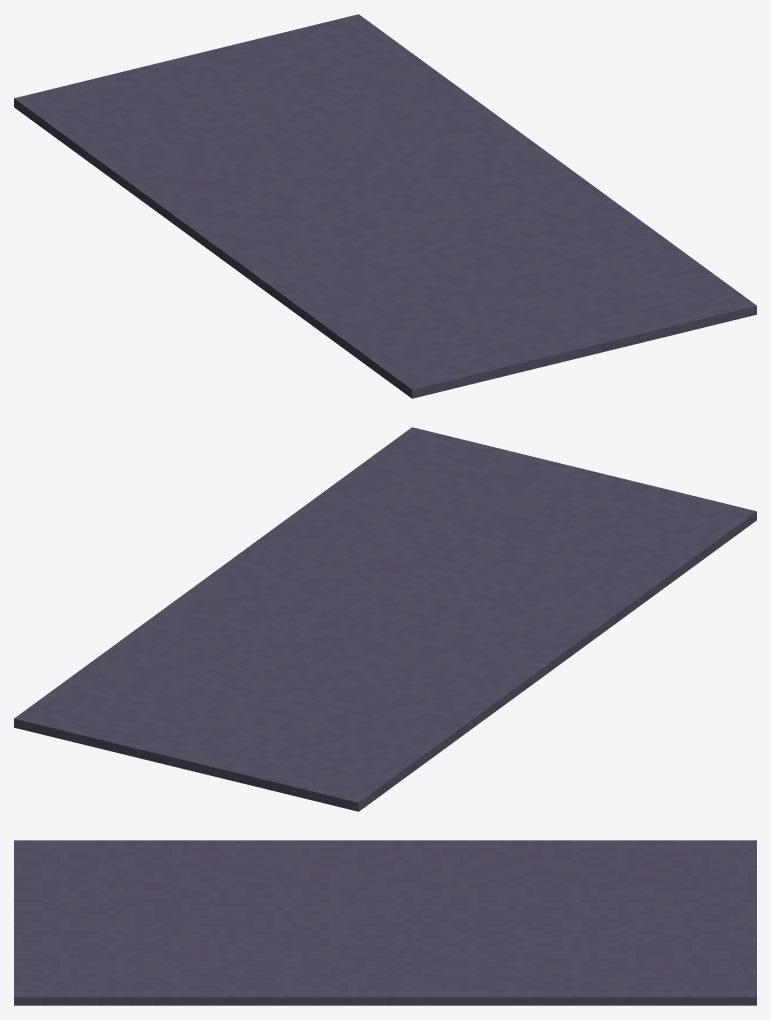
Rendered from floor_01_M.glb.
3 renders of one model, top to bottom at view 1: azimuth 30°, elevation 25°; view 2: azimuth 150°, elevation 25°; view 3: azimuth 270°, elevation 25°, orthographic. The views are drawn at different scales.
Parts seen in each view (by area): view 1: Untitled; view 2: Untitled; view 3: Untitled.
Boxes of the visible parts, bbox=[...] form: Untitled: bbox=[14, 14, 756, 398]; Untitled: bbox=[14, 427, 756, 811]; Untitled: bbox=[14, 840, 756, 1005].
Size of the model in its own units: 1.2 by 0.03 by 2.4.
1 material, 1 textured.
